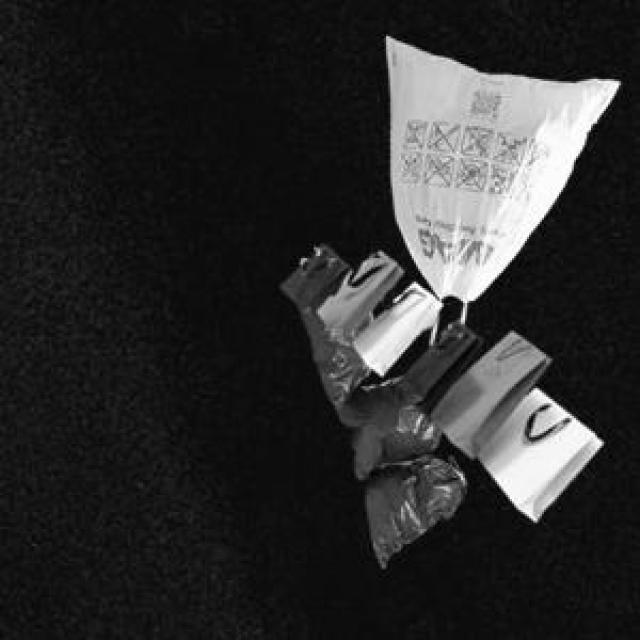miscellaneous trash: (294, 303, 463, 563)
paper: (277, 241, 597, 516)
